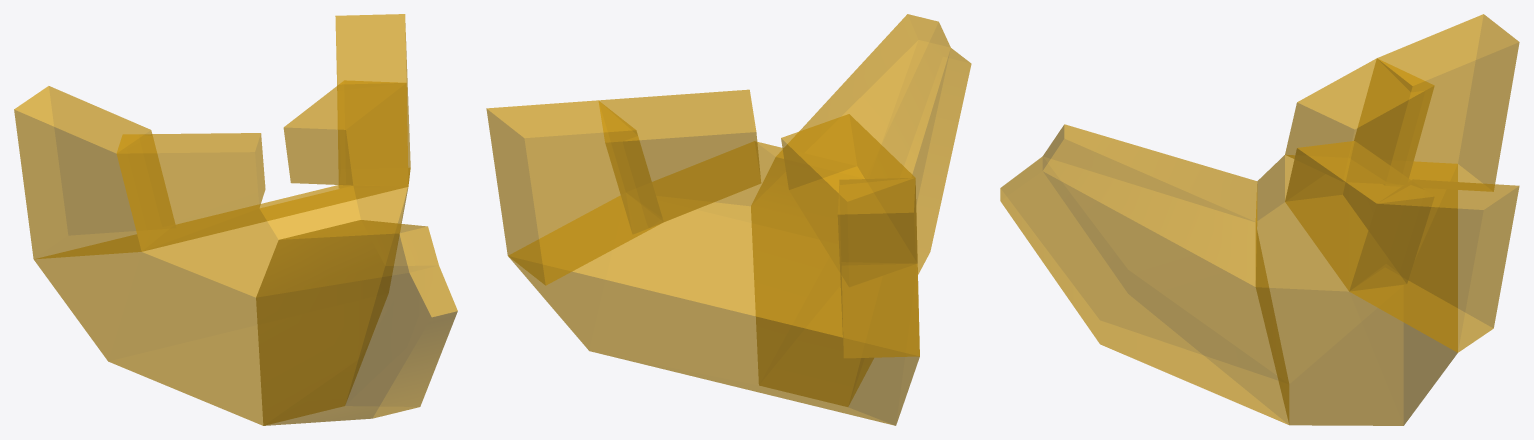
The model's file is SM_Veh_Ship_M_Figurehead_01_Collision.fbx.
3 views of the same model, side by side, from view 1: azimuth 30°, elevation 25°; view 2: azimuth 150°, elevation 25°; view 3: azimuth 270°, elevation 25° (orthographic). The views are drawn at different scales.
Parts seen in each view (by area): view 1: SM_Veh_Ship_M_Figurehead_01_Collision; view 2: SM_Veh_Ship_M_Figurehead_01_Collision; view 3: SM_Veh_Ship_M_Figurehead_01_Collision.
Part boxes in pixels (x1=…): SM_Veh_Ship_M_Figurehead_01_Collision: x1=14, y1=14, x2=457, y2=425; SM_Veh_Ship_M_Figurehead_01_Collision: x1=486, y1=14, x2=971, y2=425; SM_Veh_Ship_M_Figurehead_01_Collision: x1=1000, y1=14, x2=1519, y2=425.
Bounding box in the file's own units: 539 × 376 × 603.
